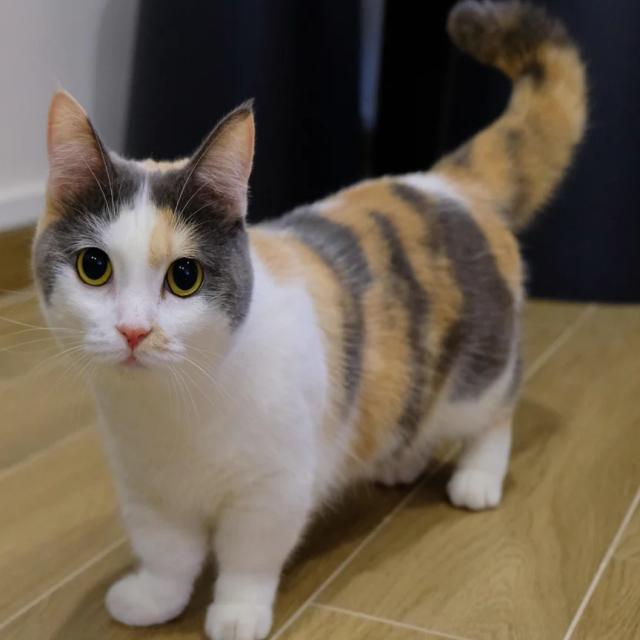Munchkin: (25, 0, 595, 640)
